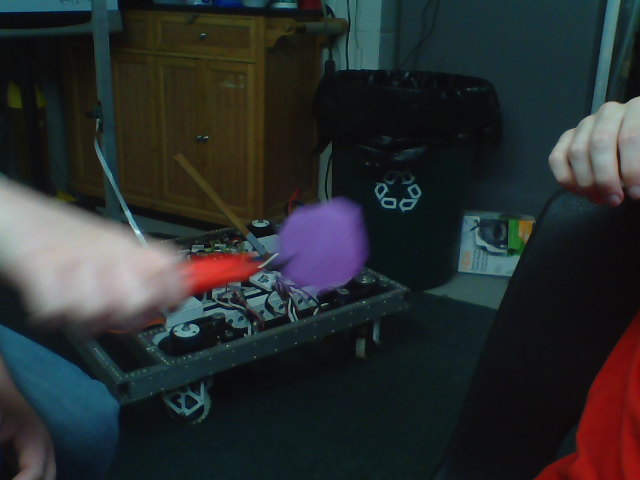ball: (280, 197, 362, 292)
